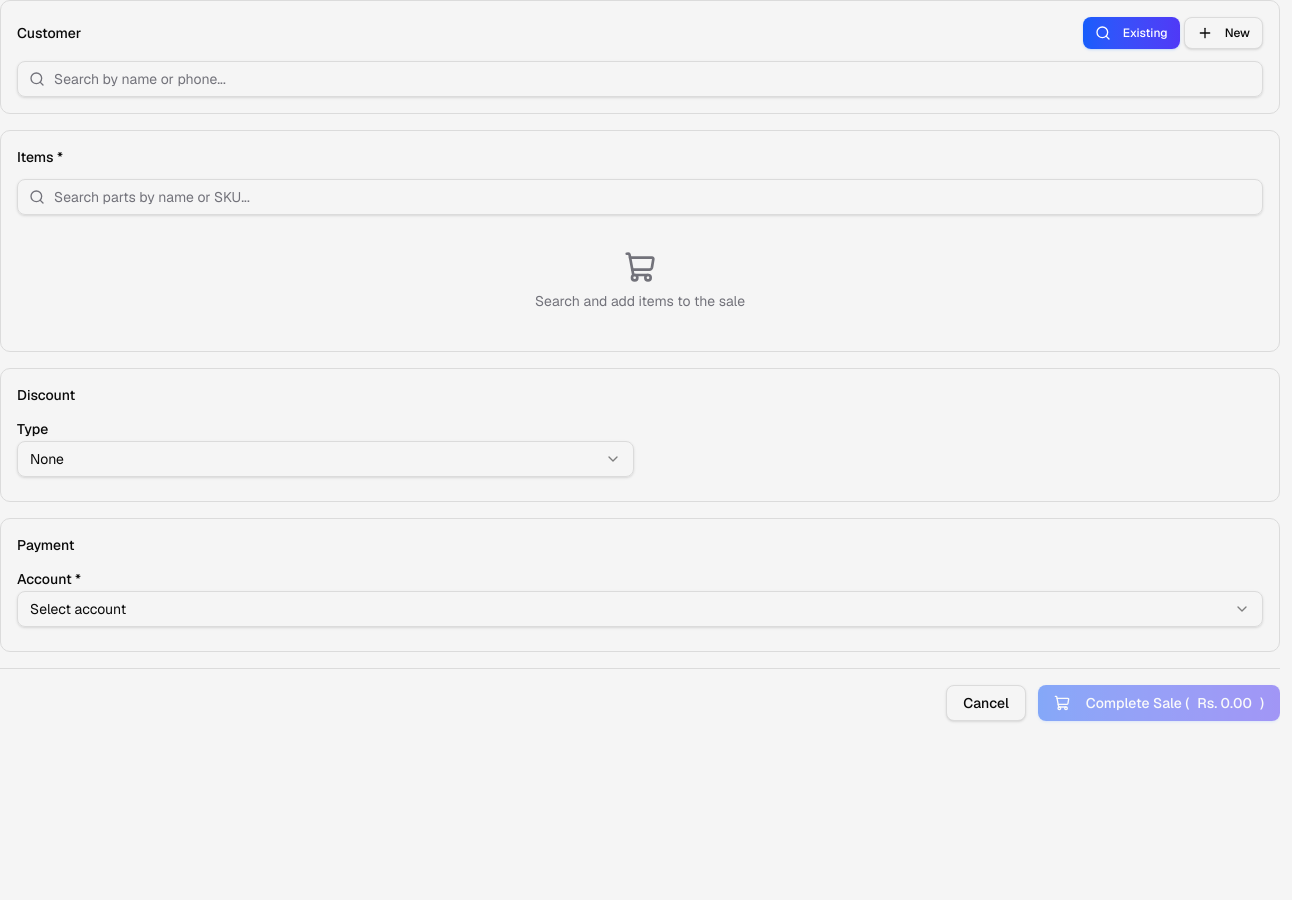
Test case: CreateSaleForm › switches to new customer mode
The width and height of the screenshot is (1292, 900).
Step 1. Click the button "New" → (1223, 33), box [1184,17,1263,49]
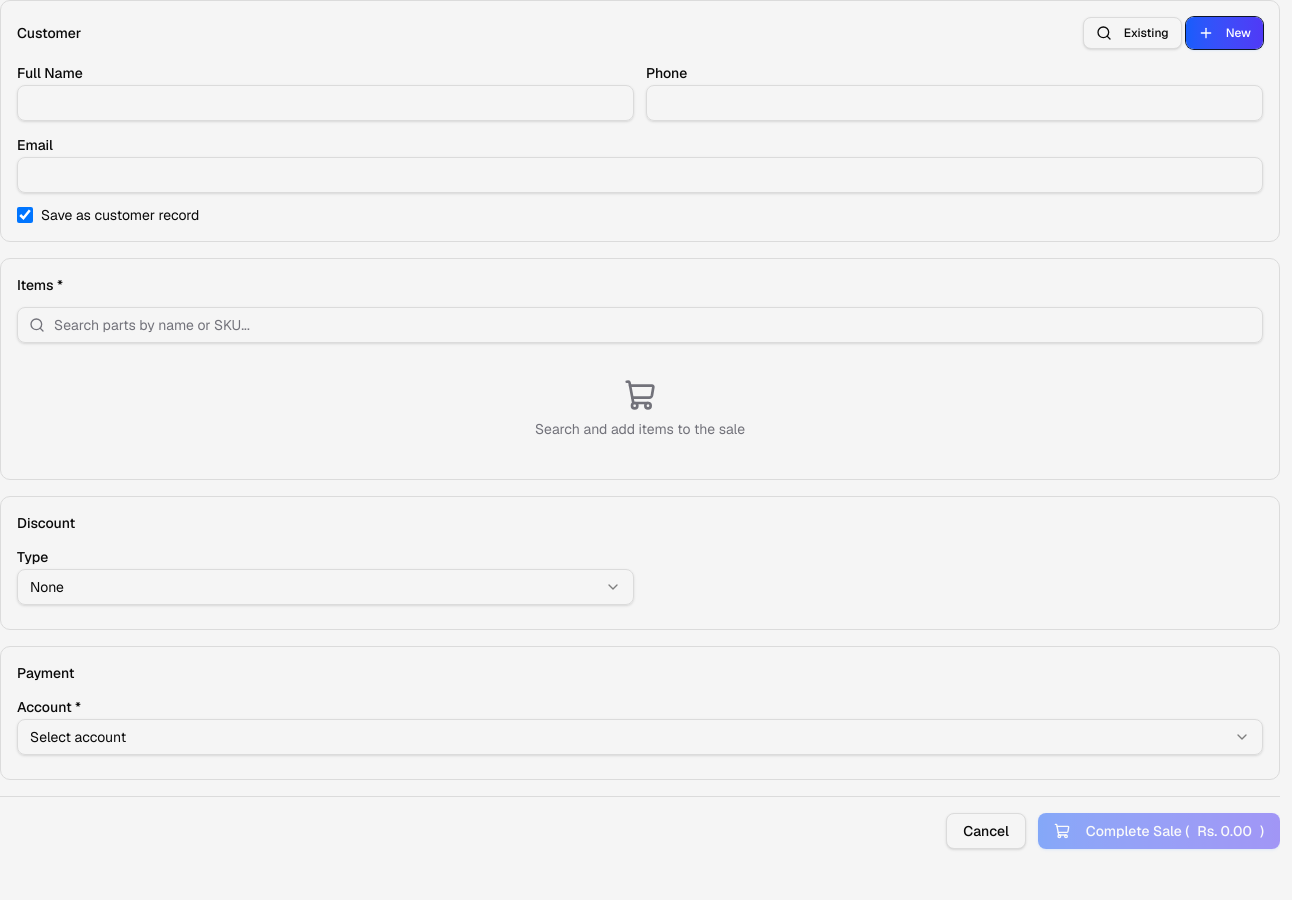
Now the field labelled "Full Name" is shown, box [17,85,634,121]
Now the field labelled "Phone" is shown, box [646,85,1263,121]
Now the field labelled "Email" is shown, box [17,157,1263,193]
